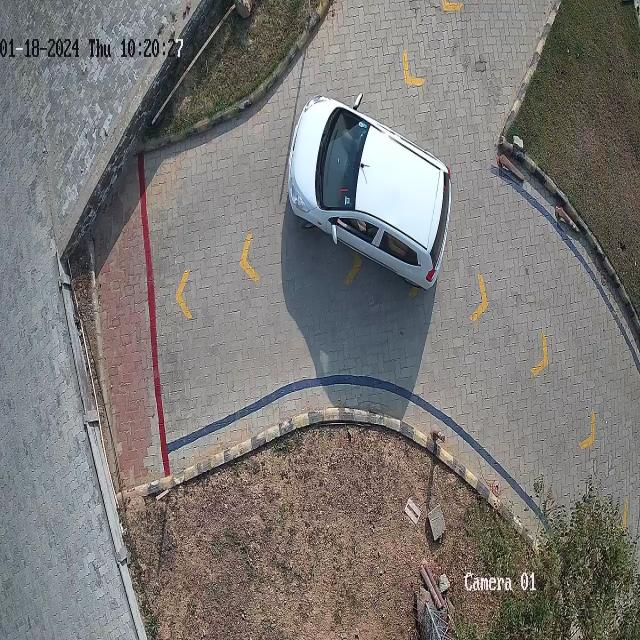car: (288, 93, 451, 289), (289, 98, 451, 289)
